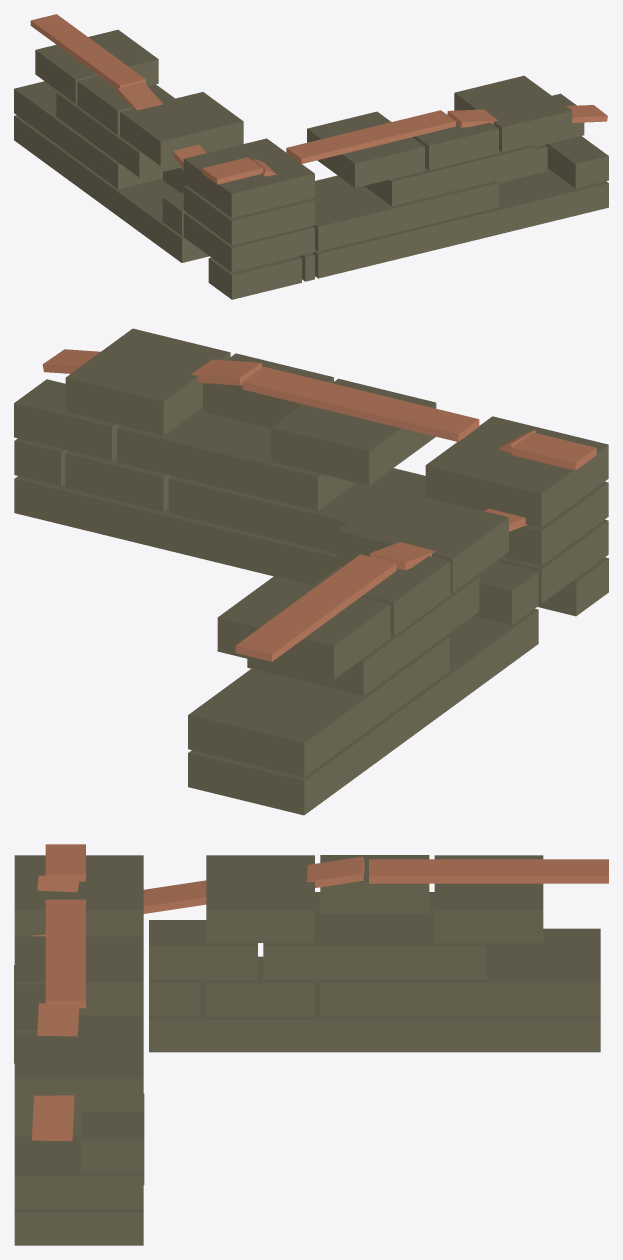
Rendered from SM_PretilEsquina_v3_Tablon_e1_Danado_LOD1.fbx.
3 views of the same model, one above another, from view 1: azimuth 30°, elevation 25°; view 2: azimuth 150°, elevation 25°; view 3: azimuth 270°, elevation 25° (orthographic). The views are drawn at different scales.
Parts seen in each view (by area): view 1: SM_pretil_azotea_v33_LOD1; view 2: SM_pretil_azotea_v33_LOD1; view 3: SM_pretil_azotea_v33_LOD1.
Part boxes in pixels (box(x1,y1,x2,y2)): SM_pretil_azotea_v33_LOD1: box(14, 14, 608, 299); SM_pretil_azotea_v33_LOD1: box(14, 328, 608, 815); SM_pretil_azotea_v33_LOD1: box(14, 844, 608, 1245).
Bounding box in the file's own units: 4.46 × 1.24 × 4.43.
